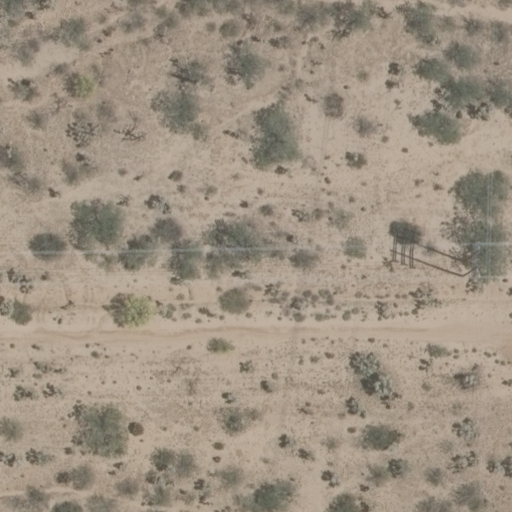DT: (458, 226, 495, 285)
